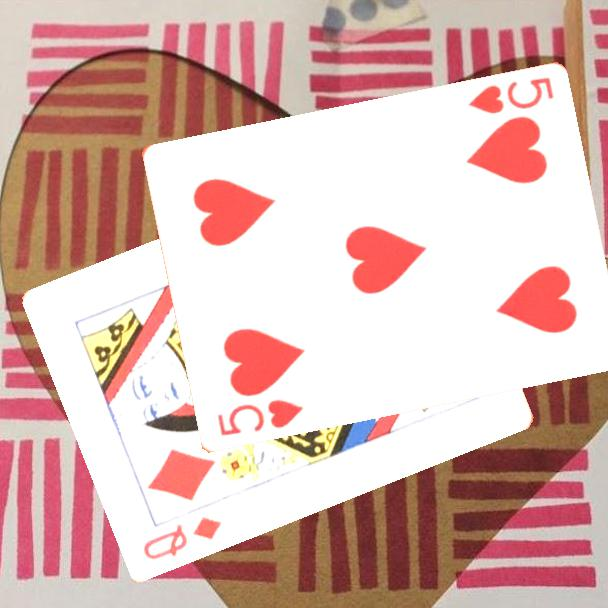d12: (139, 512, 225, 562)
h05: (464, 74, 556, 118), (214, 396, 305, 440)
